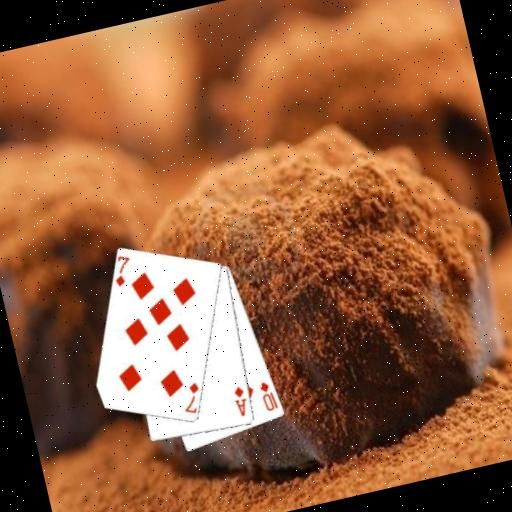10D: (256, 377, 281, 414)
7D: (175, 379, 206, 417), (107, 251, 137, 289)
AD: (228, 383, 251, 419)
